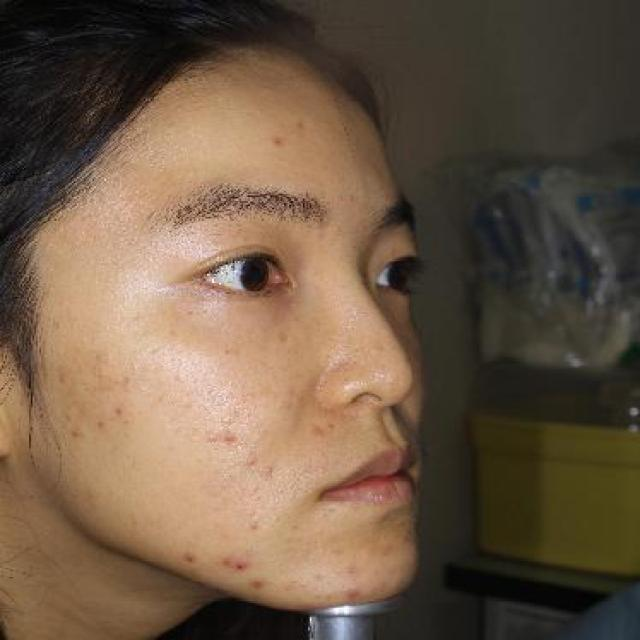blackheads: (325, 417, 344, 435)
dark spot: (262, 125, 299, 160), (173, 543, 207, 568), (104, 396, 132, 426), (86, 411, 114, 437), (337, 583, 366, 605), (67, 424, 89, 448), (218, 428, 242, 448), (236, 557, 248, 577), (221, 556, 234, 572)
